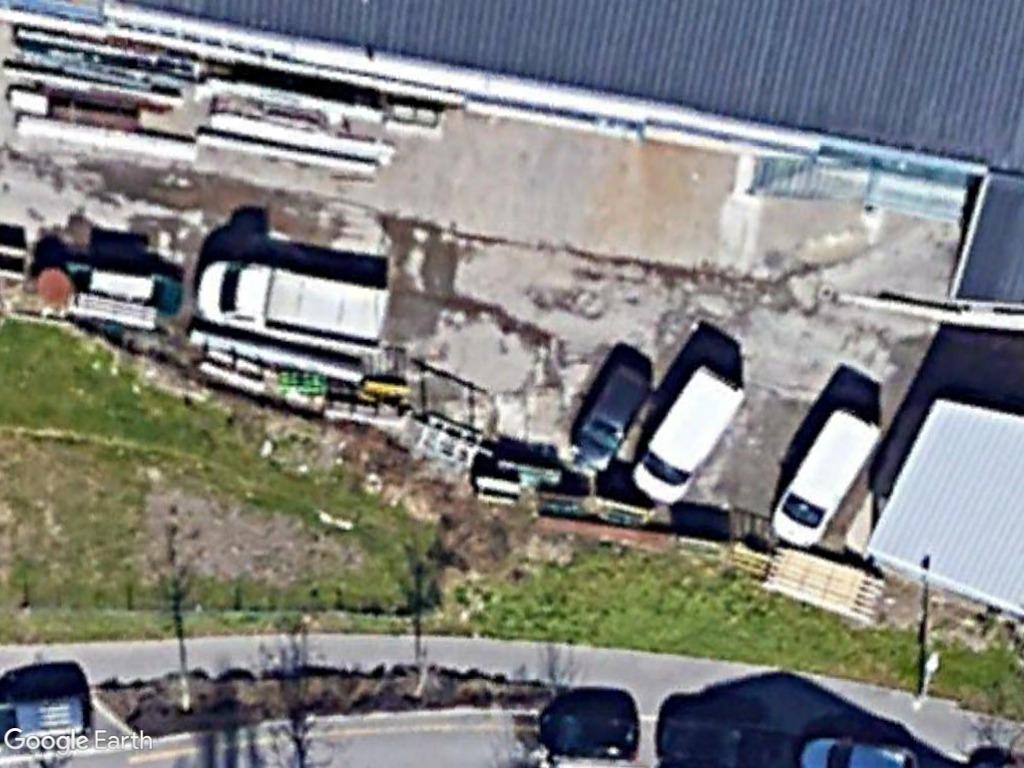car: (559, 362, 653, 467)
van: (194, 260, 393, 363), (769, 406, 888, 551), (630, 365, 748, 506)
